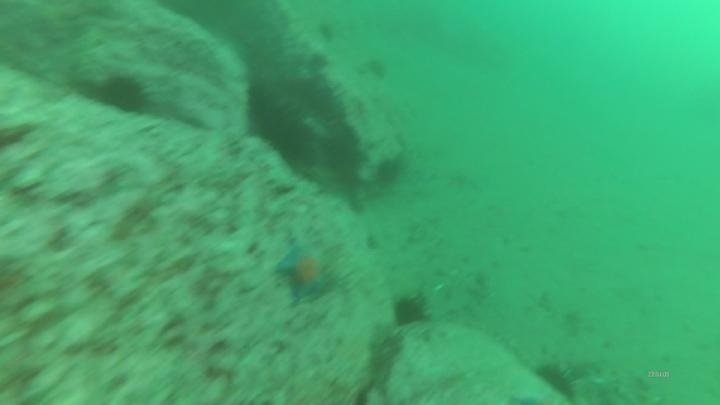echinus: (97, 72, 152, 117), (532, 360, 580, 403), (389, 291, 431, 330), (371, 153, 406, 189)
starfish: (272, 239, 337, 306)
